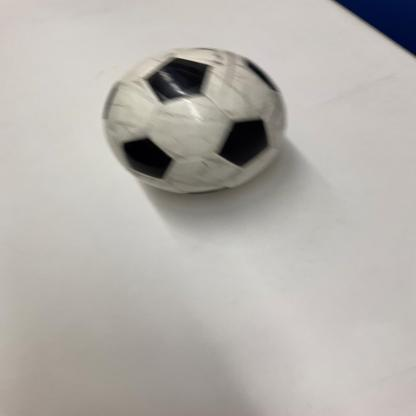ball: (100, 46, 291, 196)
